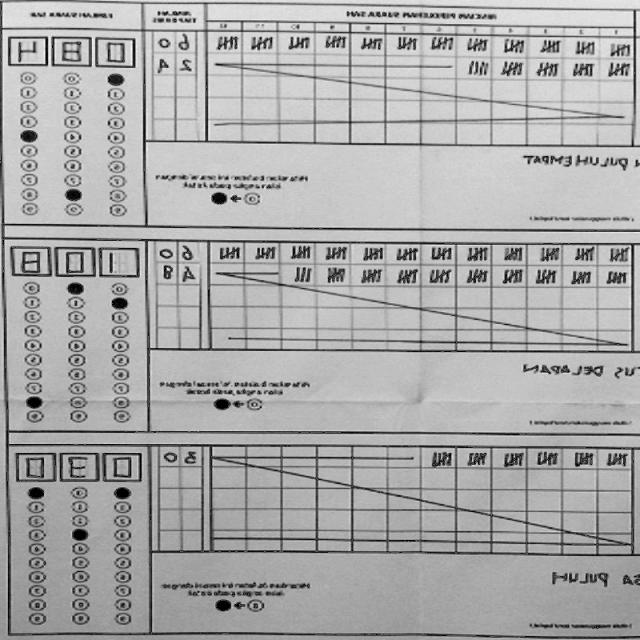Suara: (9, 239, 141, 281), (12, 444, 144, 486), (7, 30, 139, 71)
